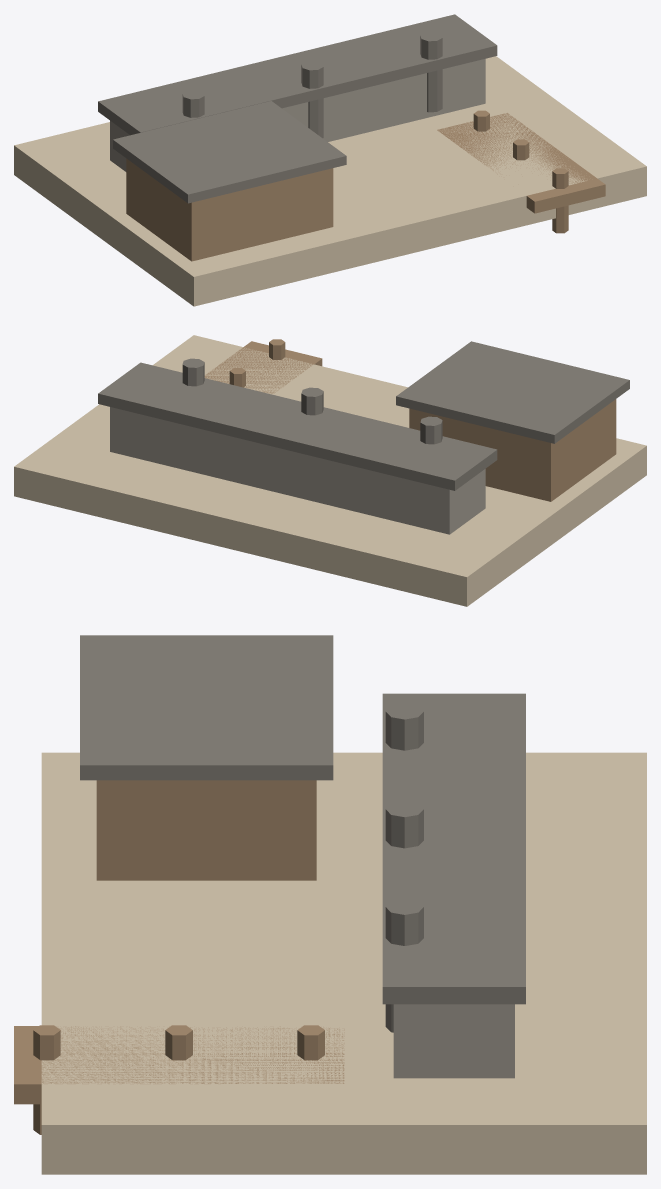
File: arica_battery_lod1.glb
3 renders of one model, top to bottom at view 1: azimuth 30°, elevation 25°; view 2: azimuth 150°, elevation 25°; view 3: azimuth 270°, elevation 25°, orthographic. The views are drawn at different scales.
Parts seen in each view (by area): view 1: arica_battery; view 2: arica_battery; view 3: arica_battery.
Part boxes in pixels (left/top/right/bottom): arica_battery: left=14, top=14, right=646, bottom=306; arica_battery: left=14, top=335, right=646, bottom=606; arica_battery: left=14, top=635, right=646, bottom=1174.
Size of the model in its own units: 16 by 4.1 by 11.5.
